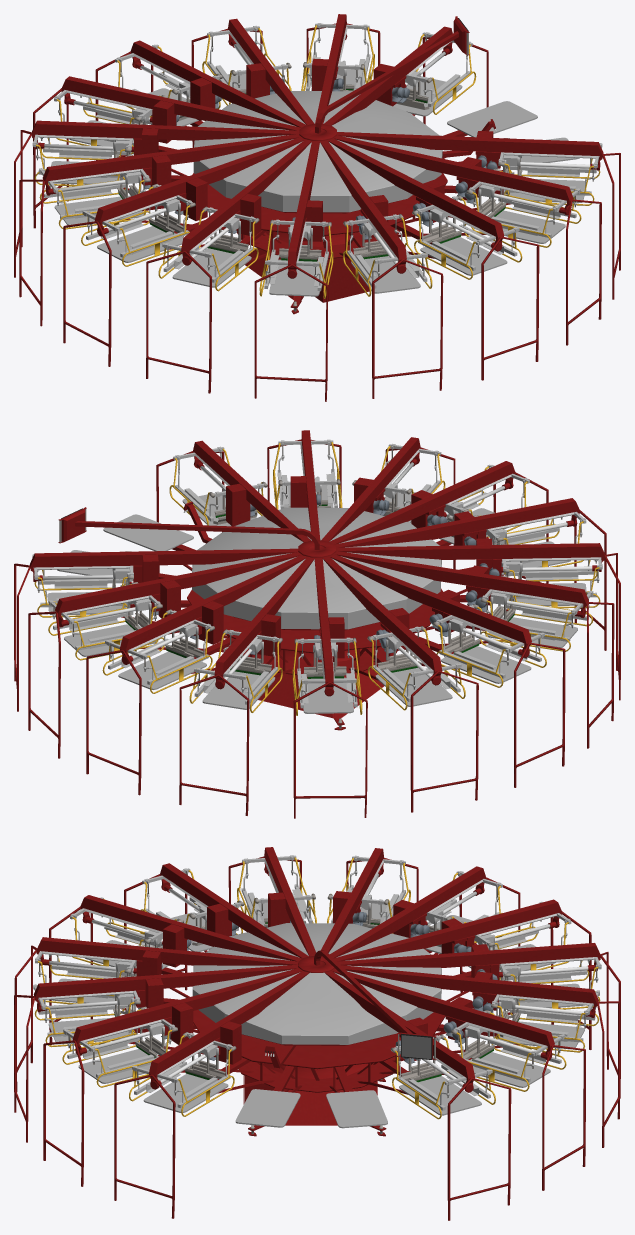
Rendered from volt_model_L_16st.glb.
3 views of the same model, one above another, from view 1: azimuth 30°, elevation 25°; view 2: azimuth 150°, elevation 25°; view 3: azimuth 270°, elevation 25° (orthographic).
Parts seen in each view (by area): view 1: volt model L 16st; view 2: volt model L 16st; view 3: volt model L 16st.
Part boxes in pixels (x1,y1,x2,y2): volt model L 16st: (14,14,620,401); volt model L 16st: (14,430,620,818); volt model L 16st: (14,847,620,1220).
Size of the model in its own units: 535 by 171 by 562.
Materials: 10 (1 with a texture image).
